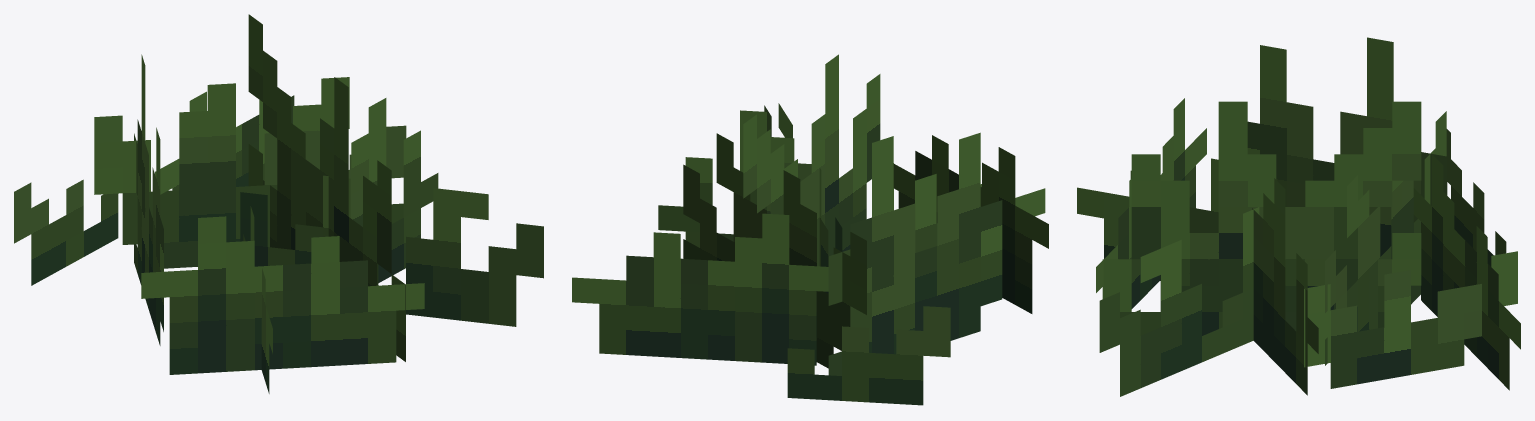
Rendered from grass-4.gltf.
3 views of the same model, side by side, from view 1: azimuth 30°, elevation 25°; view 2: azimuth 150°, elevation 25°; view 3: azimuth 270°, elevation 25° (orthographic). The views are drawn at different scales.
Visible parts, largest first — view 1: cube (×9); view 2: cube (×9); view 3: cube (×10).
Boxes of the visible parts, x1,y1,x2,y2 form: cube (×9): (14,14,543,393); cube (×9): (572,54,1048,405); cube (×10): (1077,37,1520,396).
Bounding box in the file's own units: 0.9202 × 0.5625 × 0.9572.
Materials: 1 (1 with a texture image).
